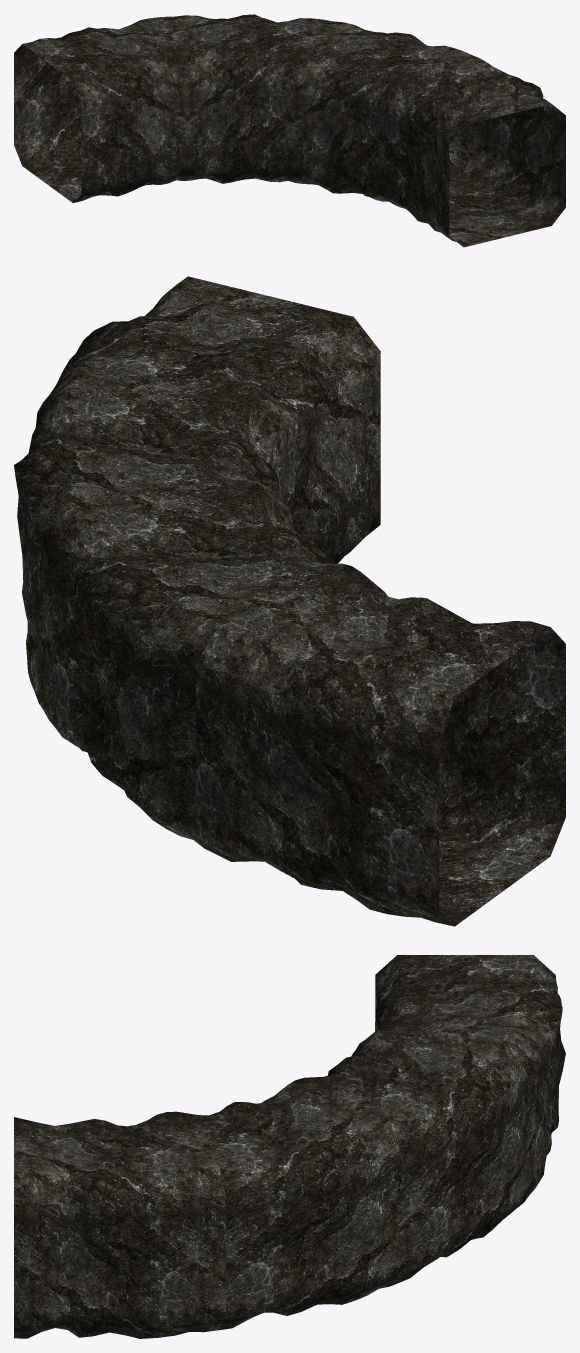
The model's file is Cave_068.fbx.
3 views of the same model, one above another, from view 1: azimuth 30°, elevation 25°; view 2: azimuth 150°, elevation 25°; view 3: azimuth 270°, elevation 25° (orthographic). The views are drawn at different scales.
Visible parts, largest first — view 1: Cave.068; view 2: Cave.068; view 3: Cave.068.
Boxes of the visible parts, <box> form: Cave.068: <box>14,14,565,247</box>; Cave.068: <box>14,276,565,926</box>; Cave.068: <box>14,955,565,1338</box>.
Size of the model in its own units: 913 by 313 by 917.
